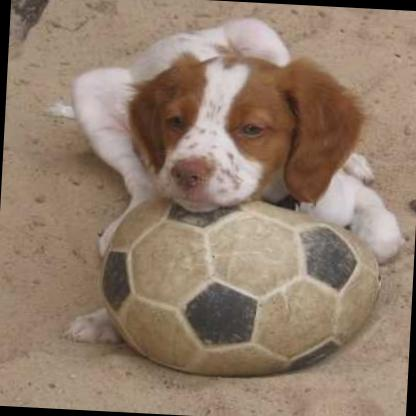ball: (96, 184, 384, 384)
